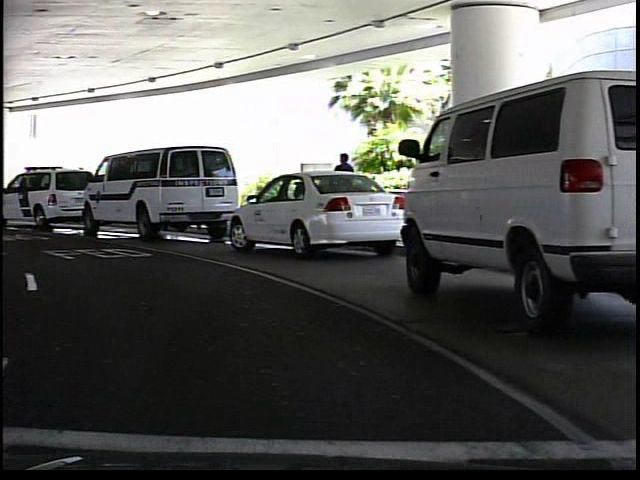person: (330, 149, 360, 235)
